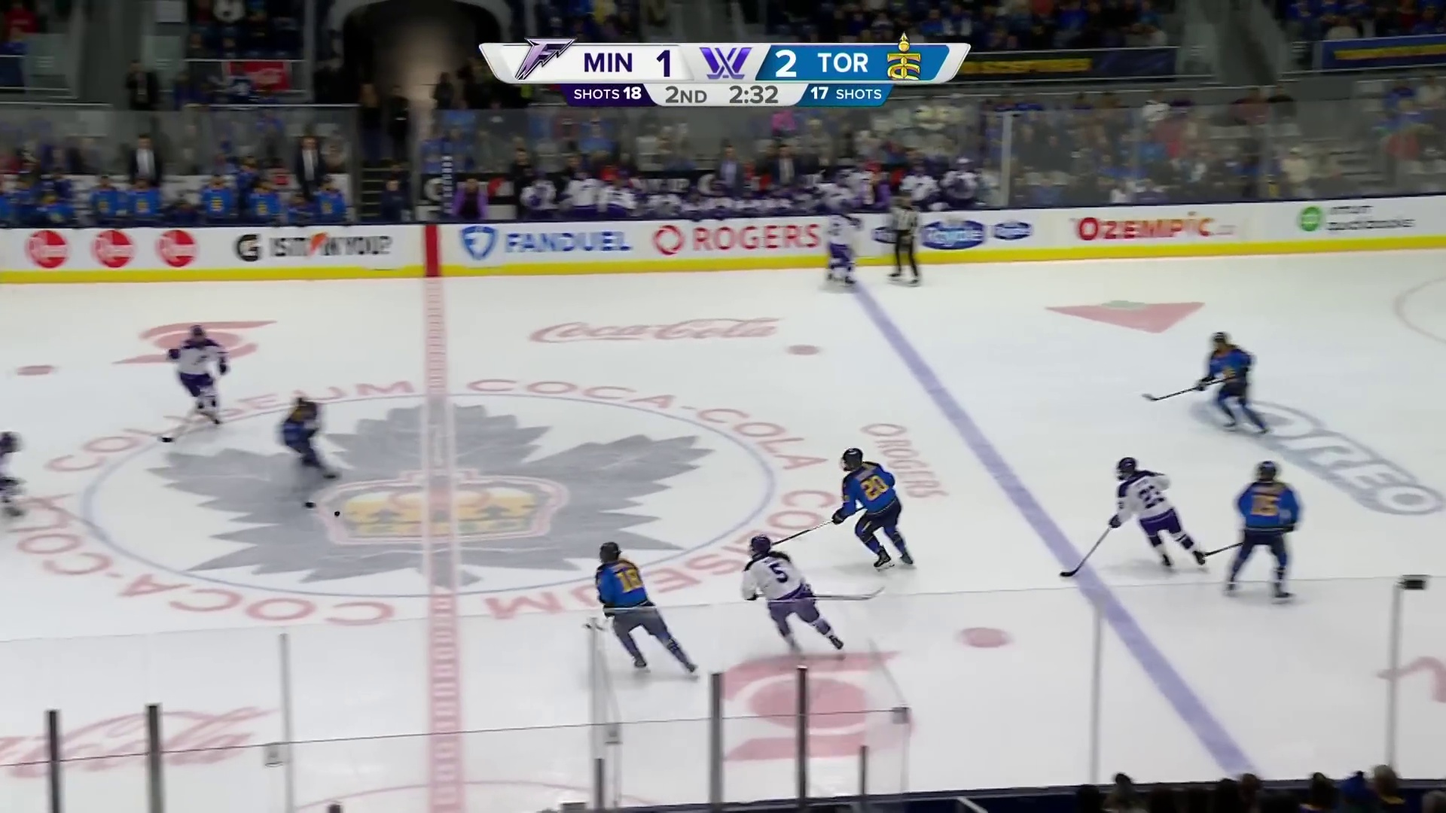player: (594, 539, 703, 675), (741, 533, 845, 656), (1220, 458, 1301, 605), (1107, 456, 1209, 571), (829, 445, 915, 576), (1190, 329, 1269, 436)
puck: (333, 508, 341, 518)
